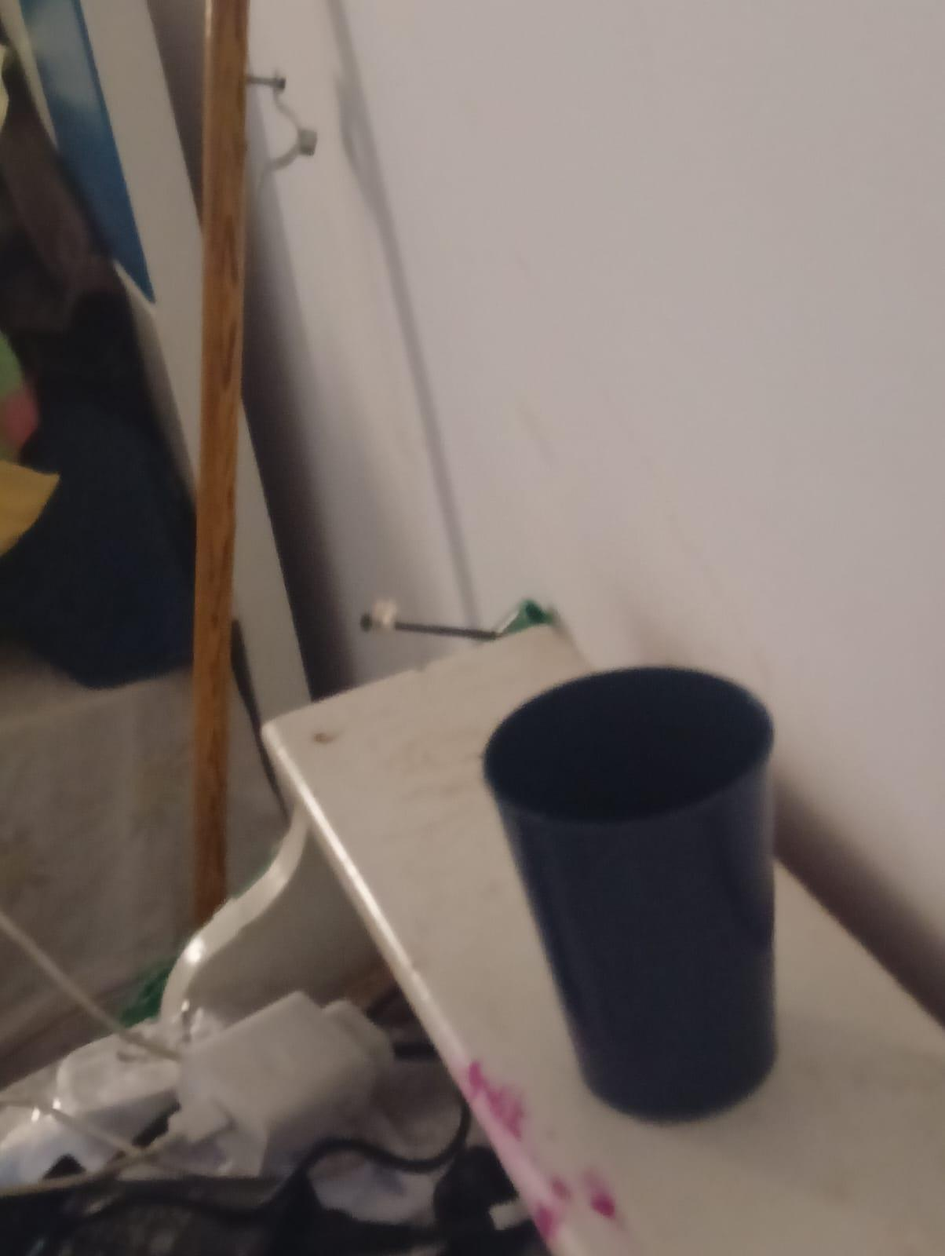cup: (483, 666, 775, 1118), (480, 664, 775, 828)
